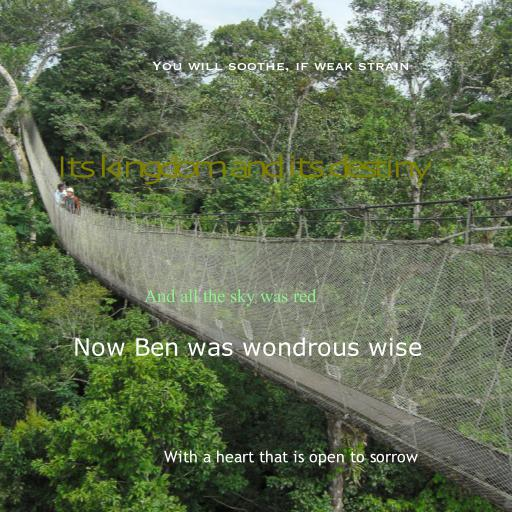Copperplate: (152, 61, 410, 73)
Skia: (56, 154, 428, 185)
Times New Roman: (144, 289, 316, 307)
Trebuchet MS: (164, 450, 418, 466)
Verdana: (72, 337, 422, 357)
